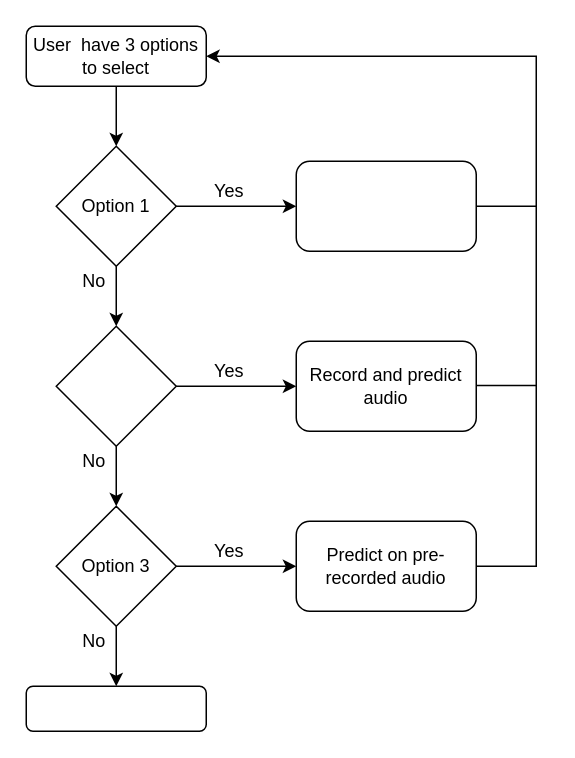
This 575x758 diagram has some shape labels left out. The shapes that lost their labels are listed below. From the top down, each one's centre as x and y in pixels, then its label:
point 385,205: Create and train model
point 115,385: Option 2
point 115,708: Quit
